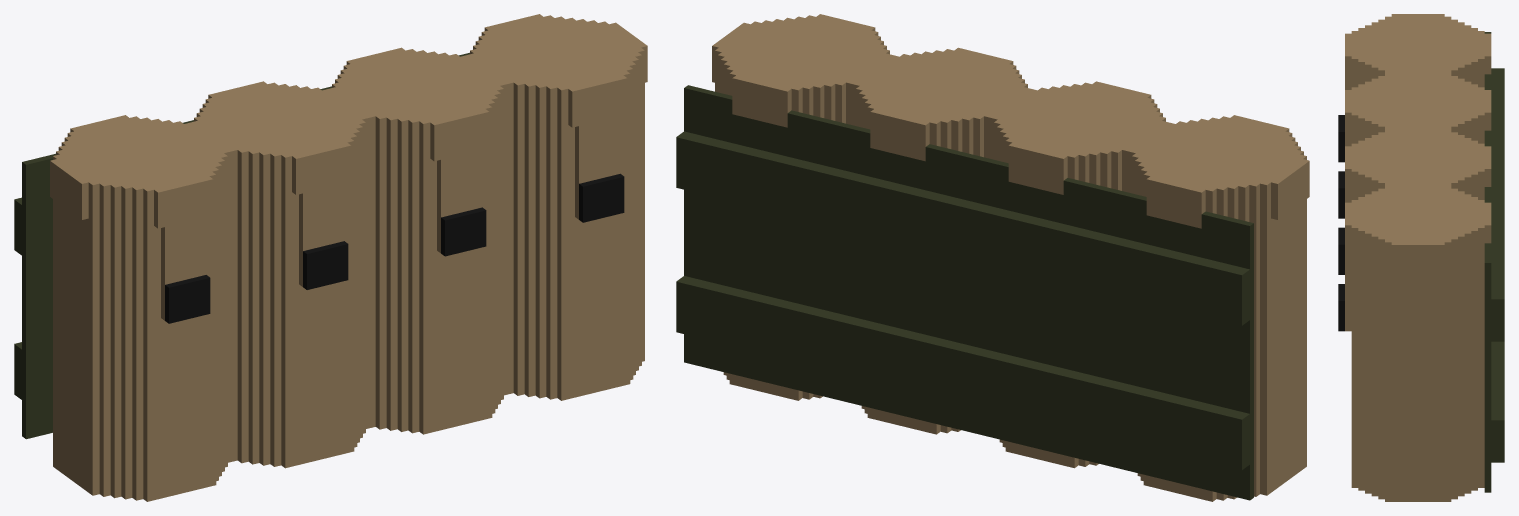
File: grenadebandolier.glb
3 renders of one model, left to right at view 1: azimuth 30°, elevation 25°; view 2: azimuth 150°, elevation 25°; view 3: azimuth 270°, elevation 25°, orthographic. The views are drawn at different scales.
Parts seen in each view (by area): view 1: grenadebandolier:compound; view 2: grenadebandolier:compound; view 3: grenadebandolier:compound.
Part boxes in pixels (x1,y1,x2,y2): grenadebandolier:compound: (14,14,647,501); grenadebandolier:compound: (676,14,1309,501); grenadebandolier:compound: (1338,14,1504,501).
Size of the model in its own units: 0.328 by 0.172 by 0.1.
